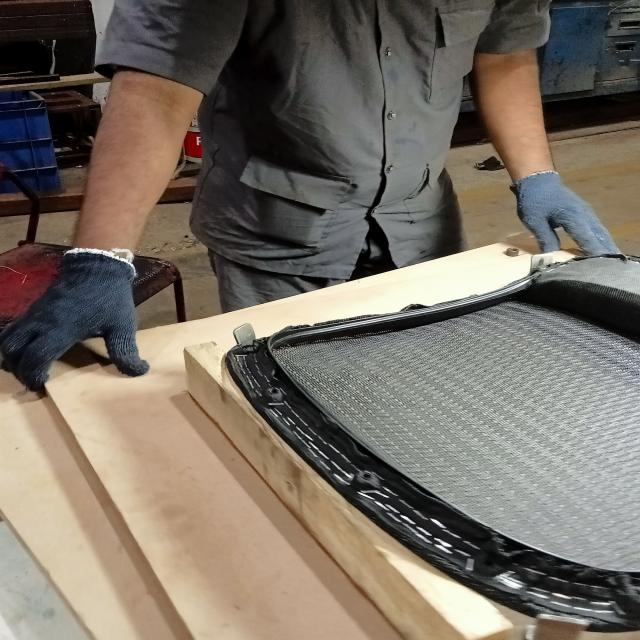Gloves-Detection: (18, 240, 162, 397), (488, 169, 616, 260)
